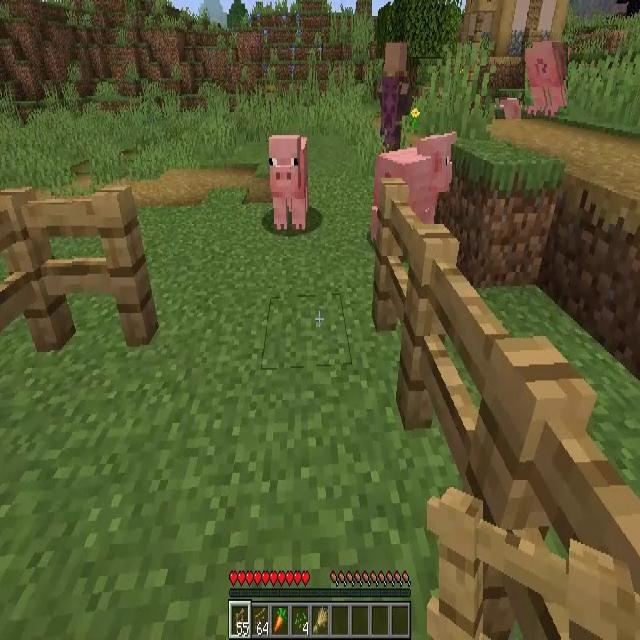people: (380, 42, 412, 150)
pig: (376, 134, 459, 242), (268, 136, 308, 234), (525, 42, 568, 106), (495, 98, 521, 121)
